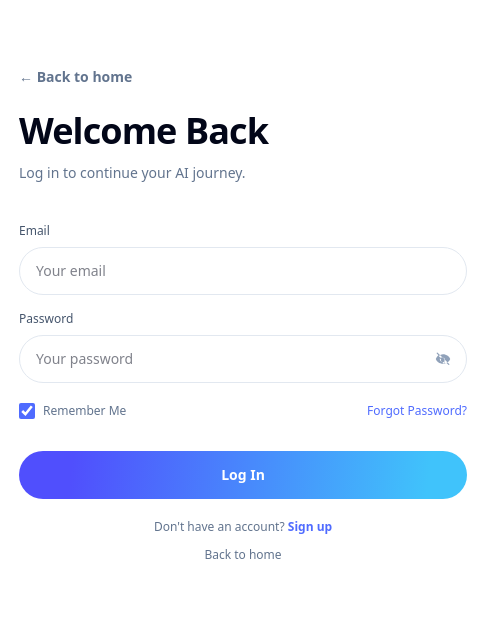
Test: AuthForm — login mode › typing into a field clears its existing error
# Trigger errors
Click the button "Log In". click: (243, 474)
box: top-left (19, 450), bottom-right (467, 498)
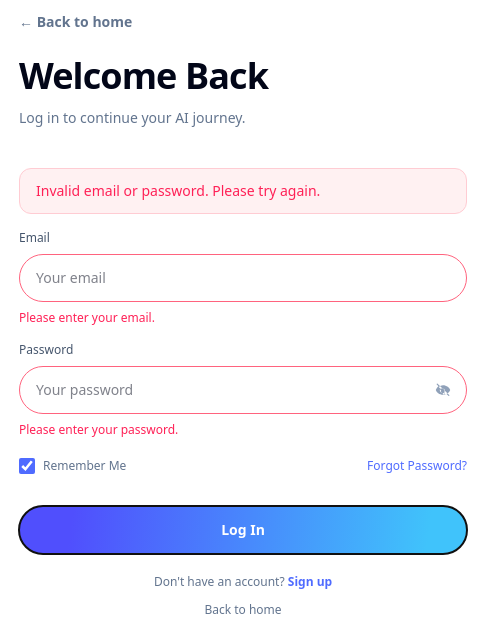
Expected: the text "Please enter your email." is shown, top-left (19, 308), bottom-right (155, 326)
# Start typing — error should disappear
Type "a" into the field labelled "Email". click: (243, 278)
box: top-left (19, 254), bottom-right (467, 302)
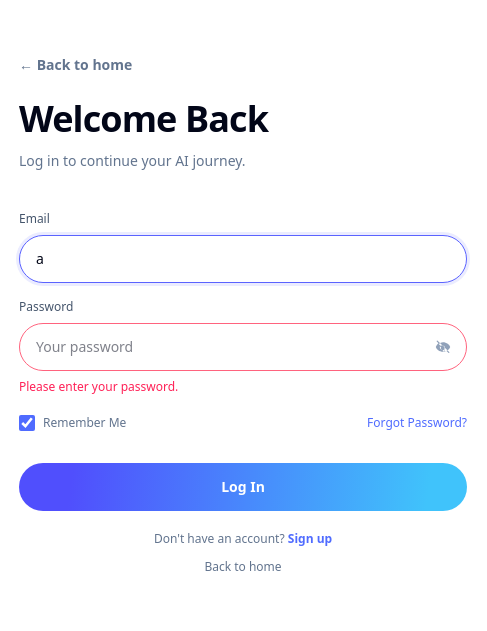
Expected: the text "Please enter your email." is gone
